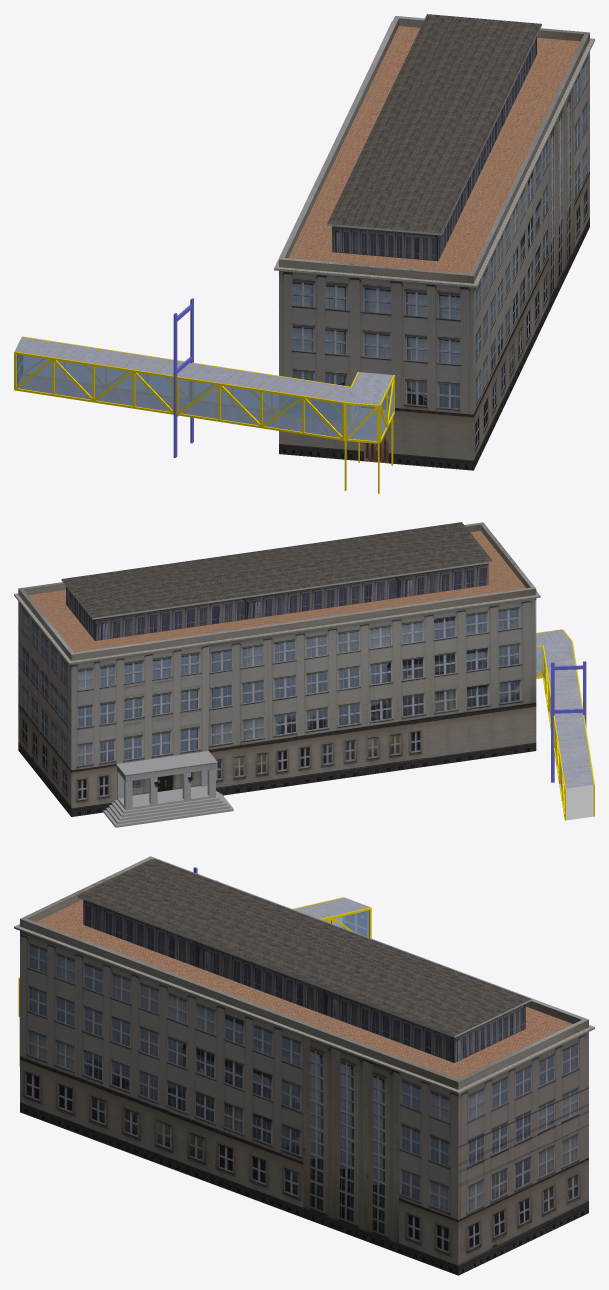
The picture shows the model from 3 angles, top to bottom: view 1: azimuth 30°, elevation 25°; view 2: azimuth 150°, elevation 25°; view 3: azimuth 270°, elevation 25°; orthographic projection. The views are drawn at different scales.
Visible parts, largest first — view 1: Mesh3 Group1 Model; view 2: Mesh3 Group1 Model; view 3: Mesh3 Group1 Model.
Part boxes in pixels (box(x1,y1,x2,y2)): Mesh3 Group1 Model: box(14, 14, 594, 493); Mesh3 Group1 Model: box(14, 522, 594, 827); Mesh3 Group1 Model: box(14, 856, 594, 1275).
Size of the model in its own units: 52.31 by 17.46 by 41.46.
Materials: 54 (45 with a texture image).
